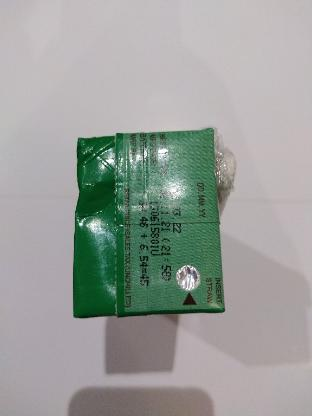Others: (70, 126, 236, 318)
